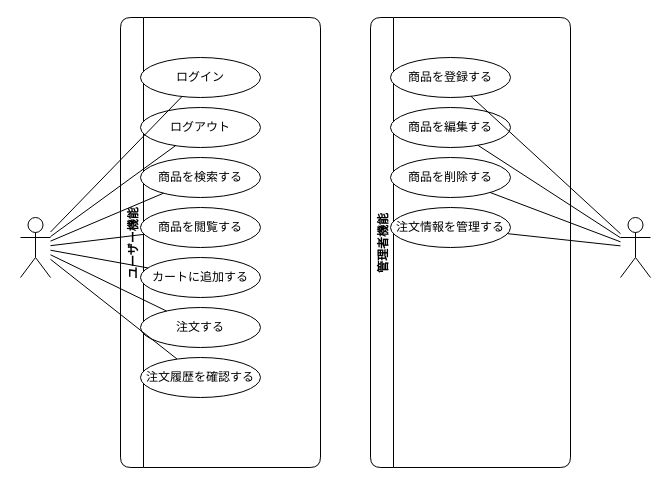
This 670x485 diagram has some shape labels left out. Each missing label, with the centre of its shape:
"ユーザ" goes at point (35, 247).
"管理者" goes at point (635, 247).
